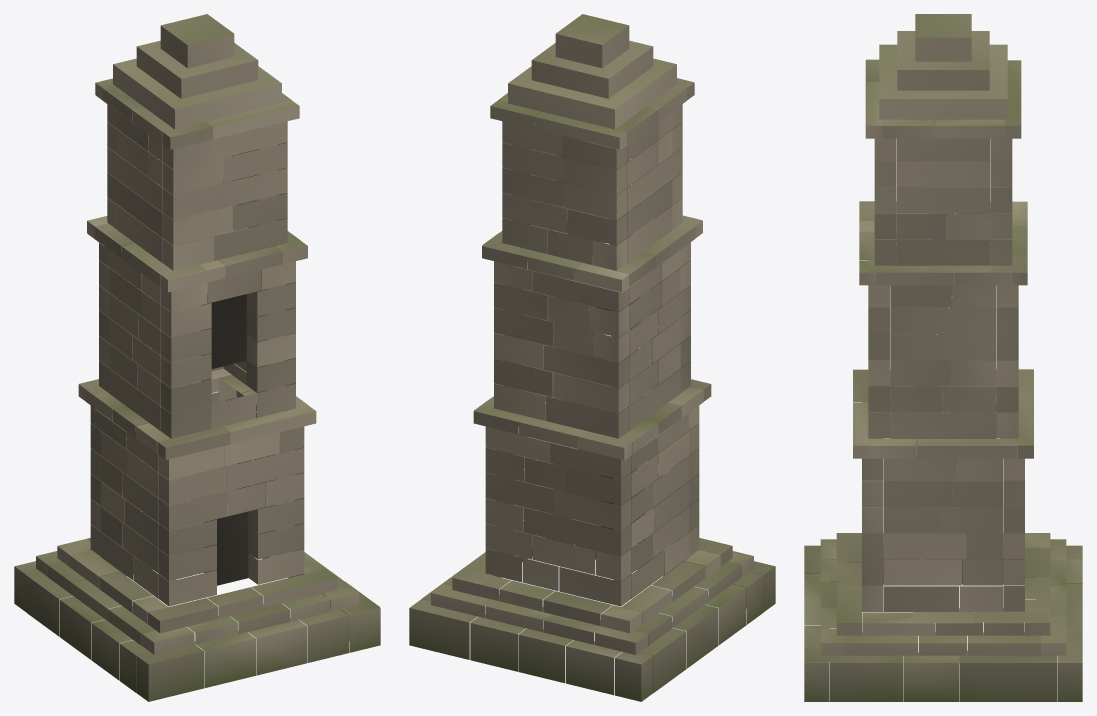
File: tombs_tower_mid.glb
The picture shows the model from 3 angles, left to right: view 1: azimuth 30°, elevation 25°; view 2: azimuth 150°, elevation 25°; view 3: azimuth 270°, elevation 25°; orthographic projection. The views are drawn at different scales.
Parts seen in each view (by area): view 1: tombs_tower_mid; view 2: tombs_tower_mid; view 3: tombs_tower_mid.
Part boxes in pixels (x1=…): tombs_tower_mid: x1=14, y1=14, x2=380, y2=701; tombs_tower_mid: x1=409, y1=14, x2=775, y2=701; tombs_tower_mid: x1=804, y1=14, x2=1082, y2=701.
Size of the model in its own units: 15.4 by 37.67 by 15.4.
